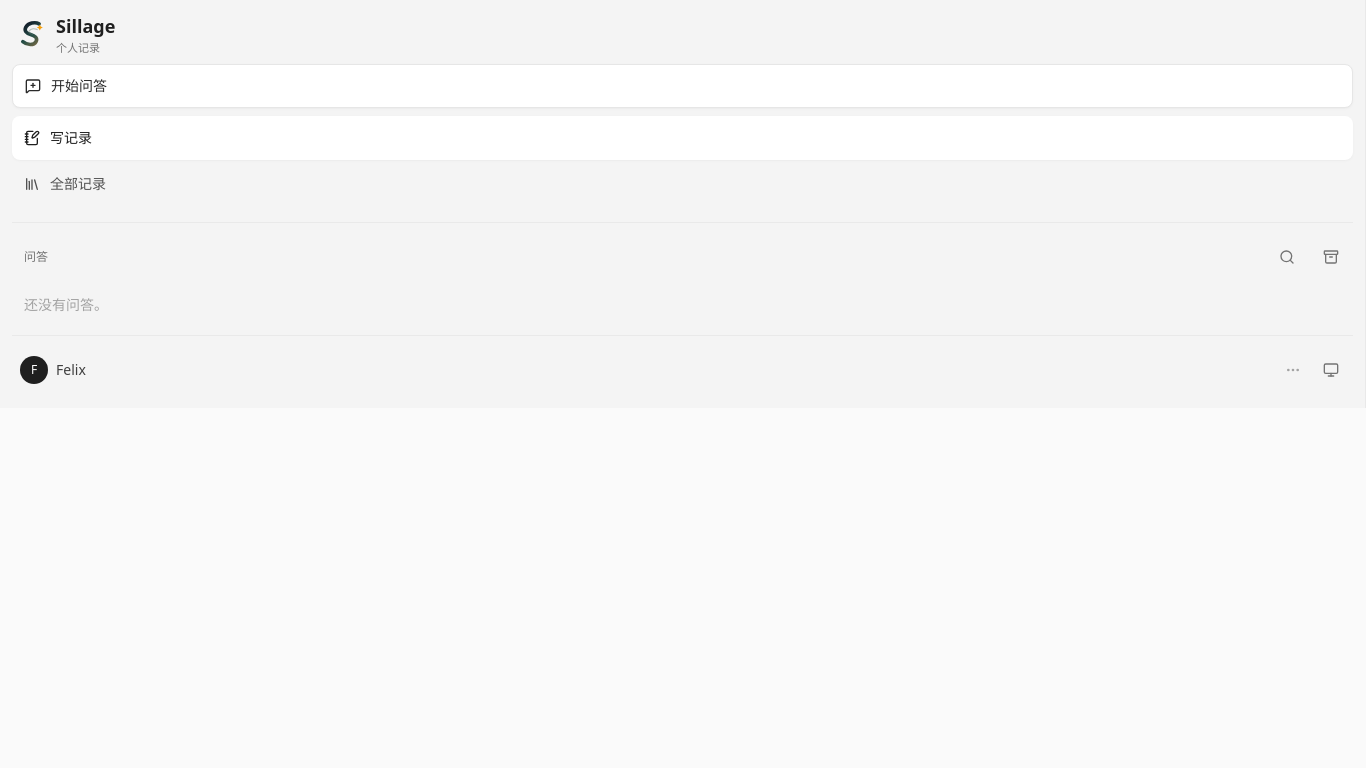
Test: Sidebar › checks a newly active password operation before confirming sign-out
What coordinates should you click on to do the following:
click the text "Felix"
I would click on:
 (71, 370)
Its box is [56,360,86,379].
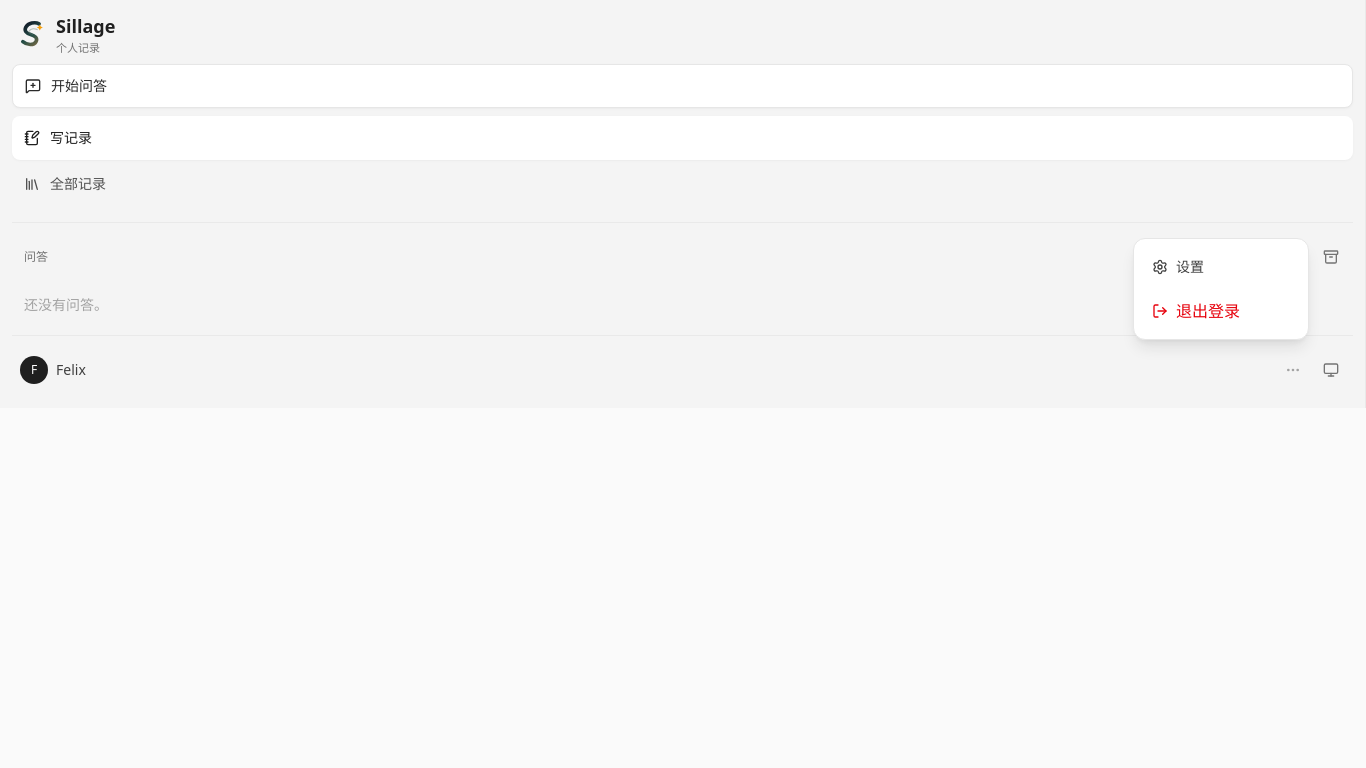
What coordinates should you click on to do the following:
click the button "退出登录"
I would click on:
 (1221, 311)
Its box is [1140,289,1302,333].
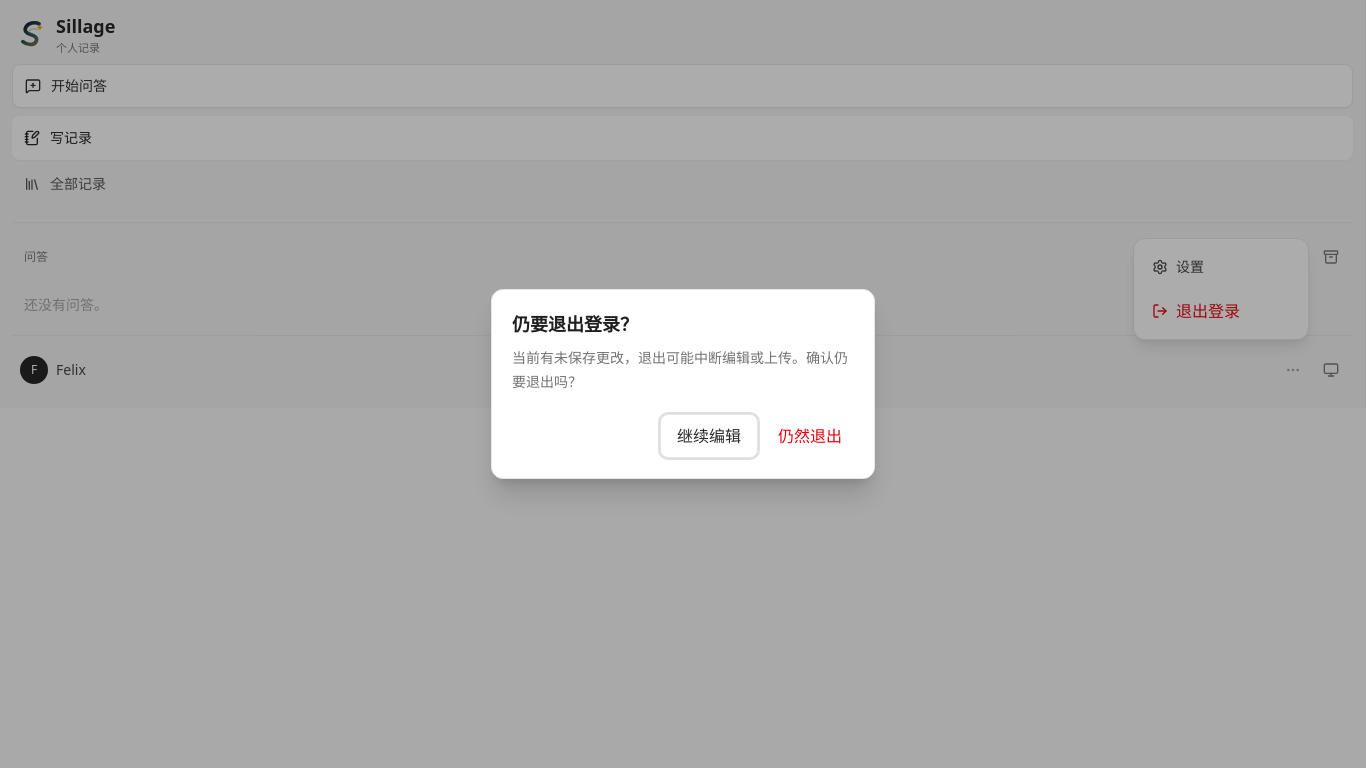
What coordinates should you click on to do the following:
click the button "仍然退出"
I would click on:
 (810, 436)
Its box is [766,414,854,458].
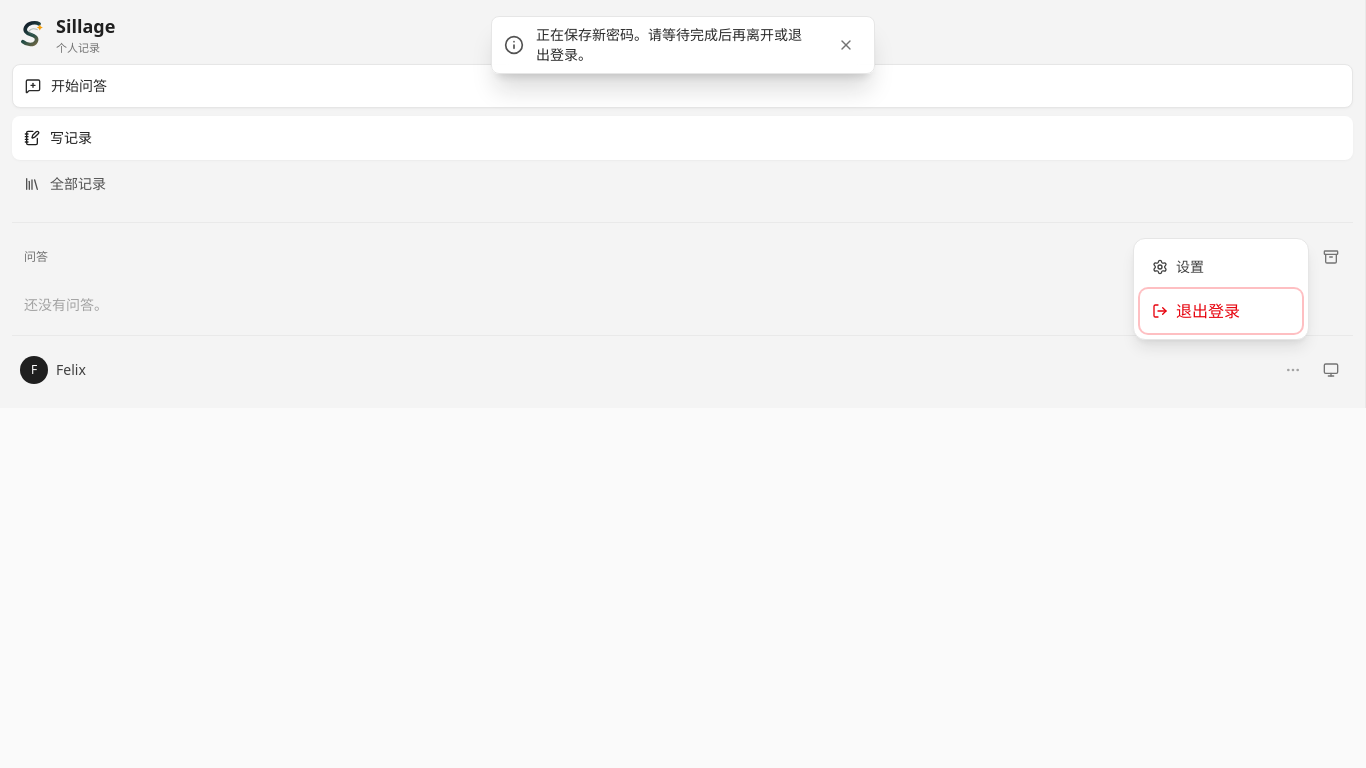
Expected: the dialog is gone
Expected: the message reads "正在保存新密码。请等待完成后再离开或退出登录。", [536,25,802,64]
